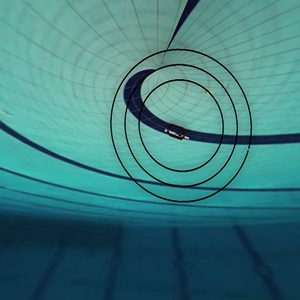circle: (100, 42, 262, 225)
submarine: (158, 116, 201, 151)
